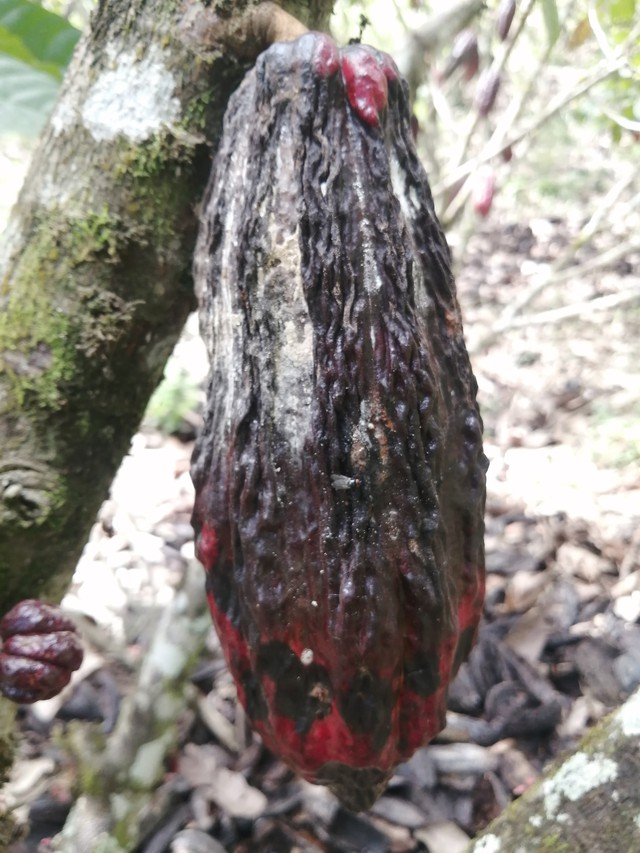moniliophthora roreri: (162, 21, 515, 824)
